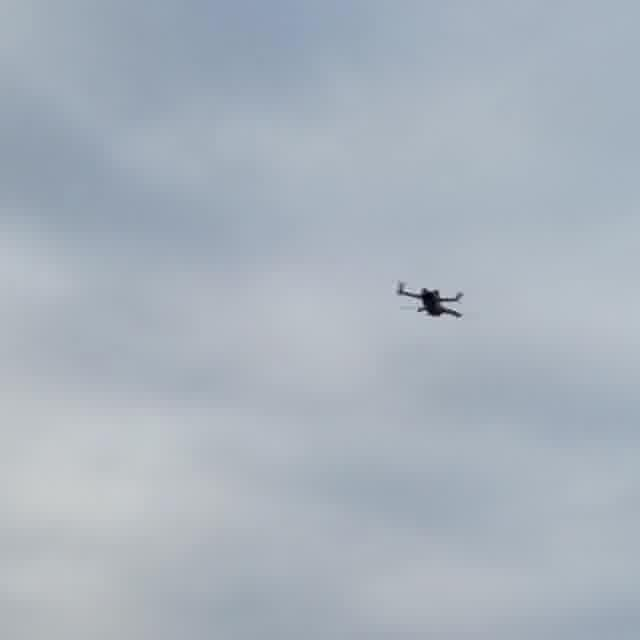Drohne: (397, 282, 462, 316)
